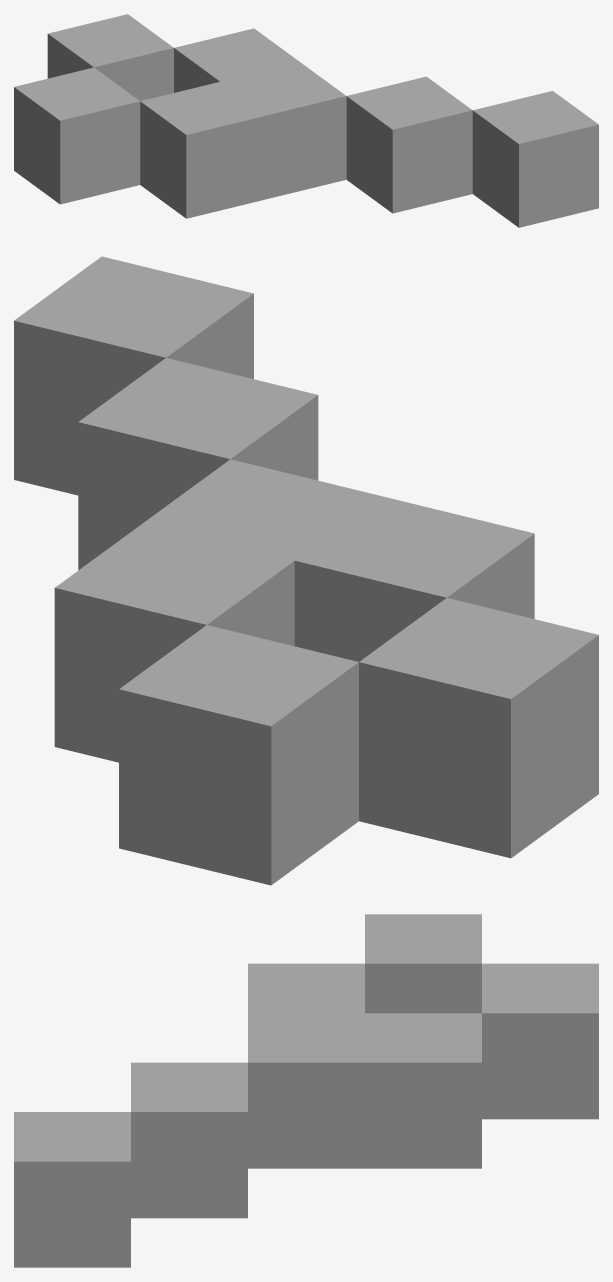
The model's file is Fork.obj.
3 views of the same model, one above another, from view 1: azimuth 30°, elevation 25°; view 2: azimuth 150°, elevation 25°; view 3: azimuth 270°, elevation 25° (orthographic). The views are drawn at different scales.
Parts seen in each view (by area): view 1: Fork; view 2: Fork; view 3: Fork.
Part boxes in pixels (x1,y1,x2,y2): Fork: (14, 14, 598, 227); Fork: (14, 256, 598, 885); Fork: (14, 914, 598, 1267).
Size of the model in its own units: 5 by 1 by 5.
1 material, 1 textured.
